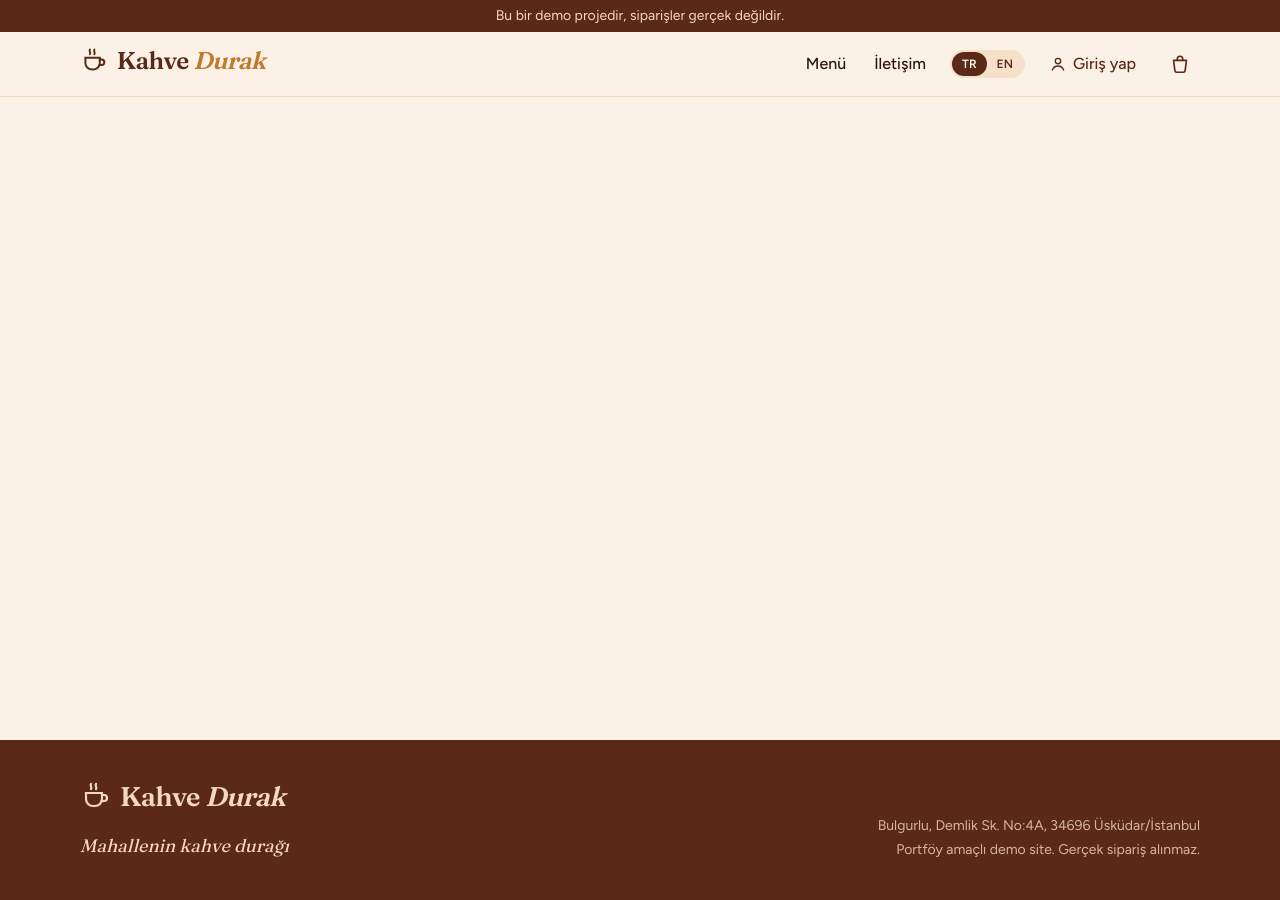
Test case: Layout cart drawer › opens the cart from the header and closes it again
Click the button named "Sepet, 0 ürün" at (1180, 64), box 1160,44 -> 1200,84
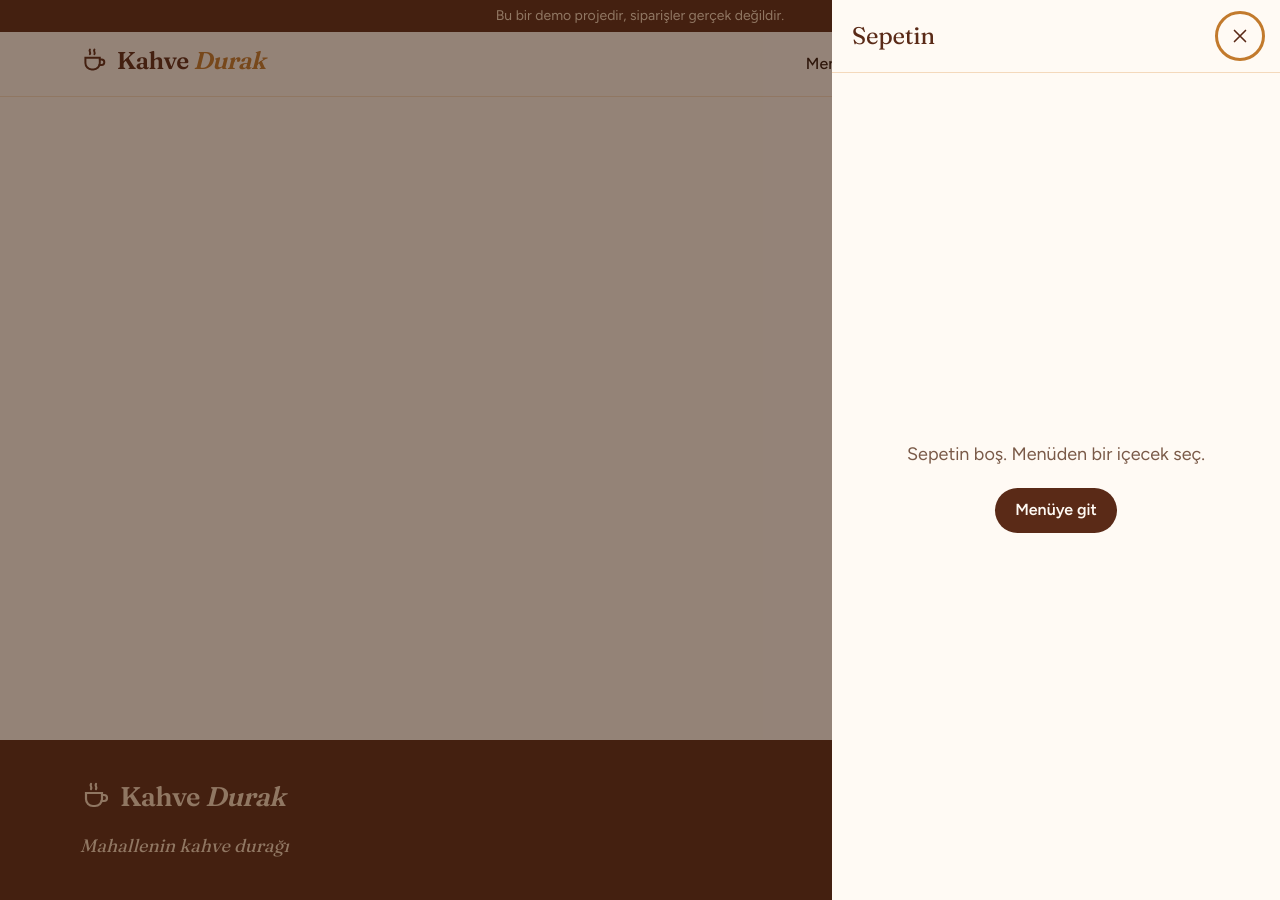
Result: the dialog "Sepetin" is shown at 832,0 -> 1279,899
Click the button named "Kapat" at (1240, 36), box 1220,16 -> 1260,56
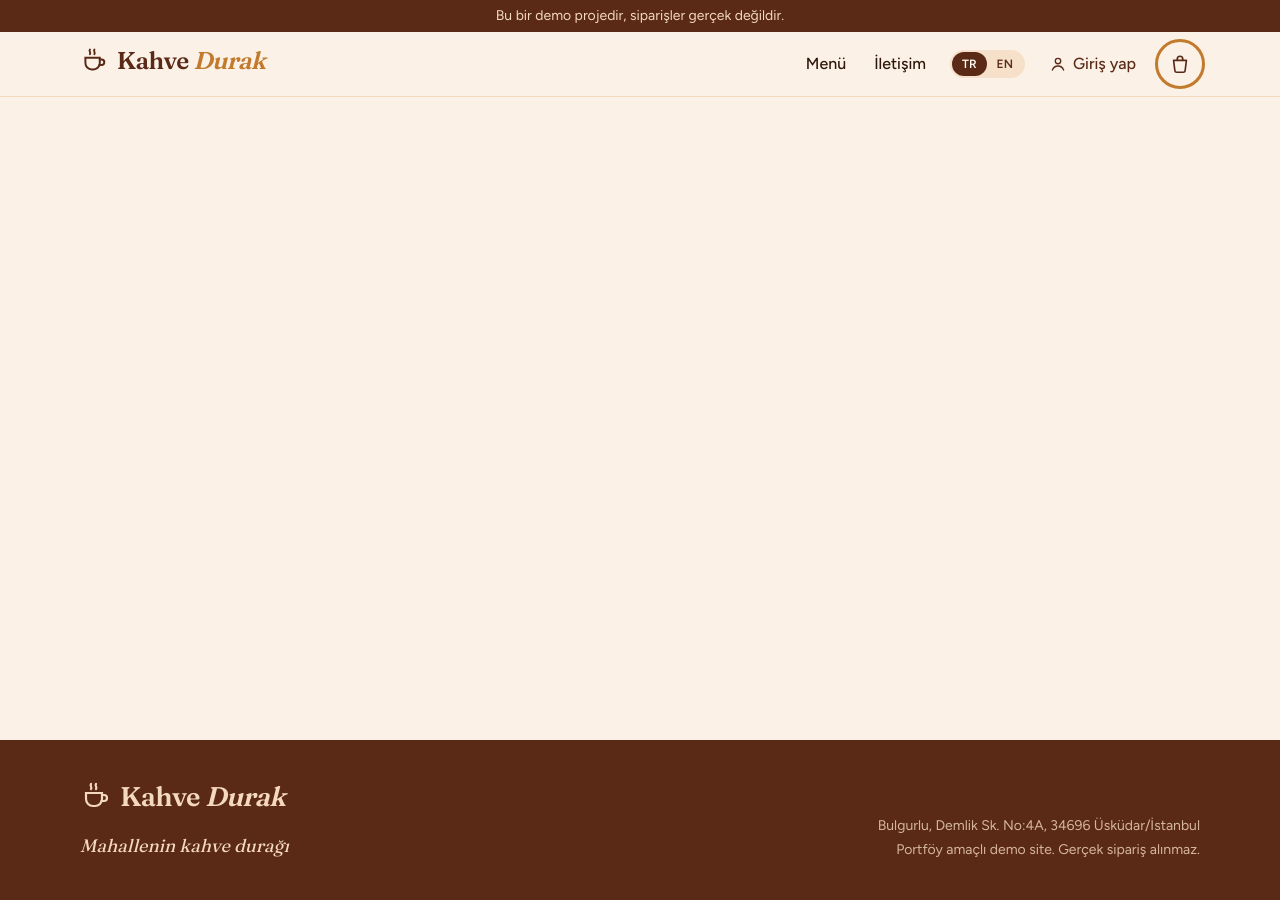
Result: the dialog is gone
